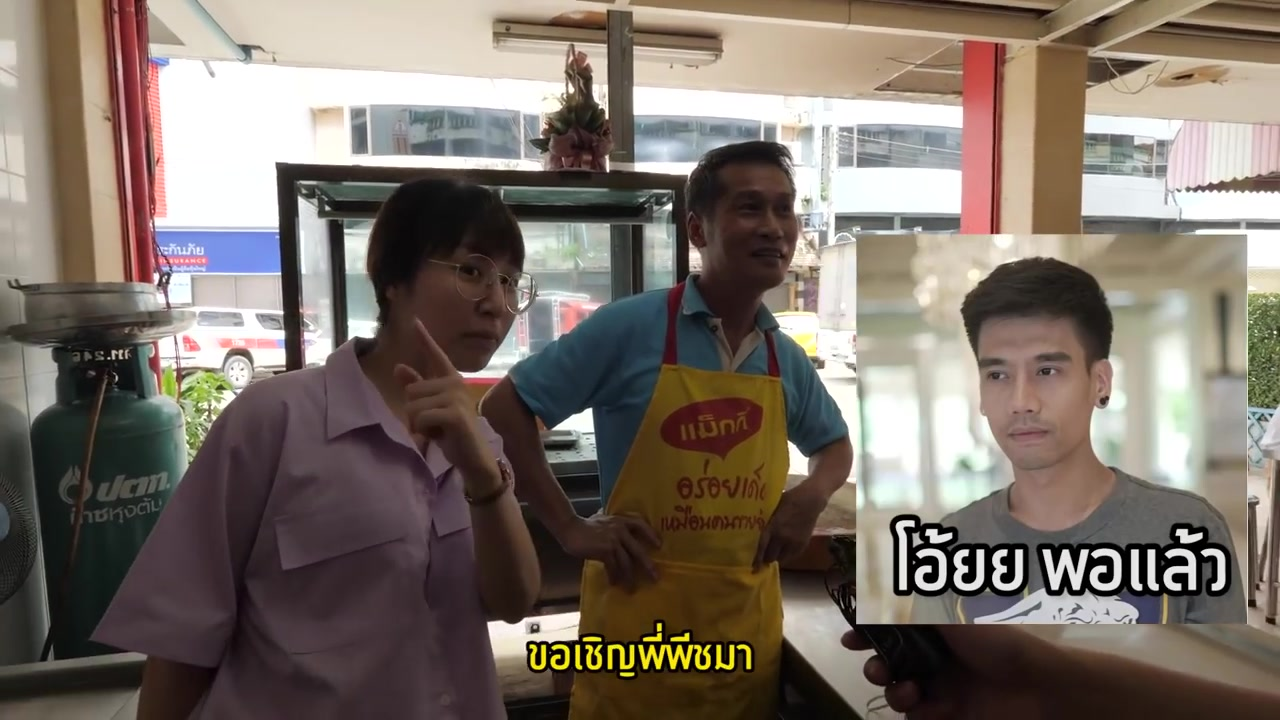text-label: (883, 511, 1236, 600), (522, 622, 760, 679)
